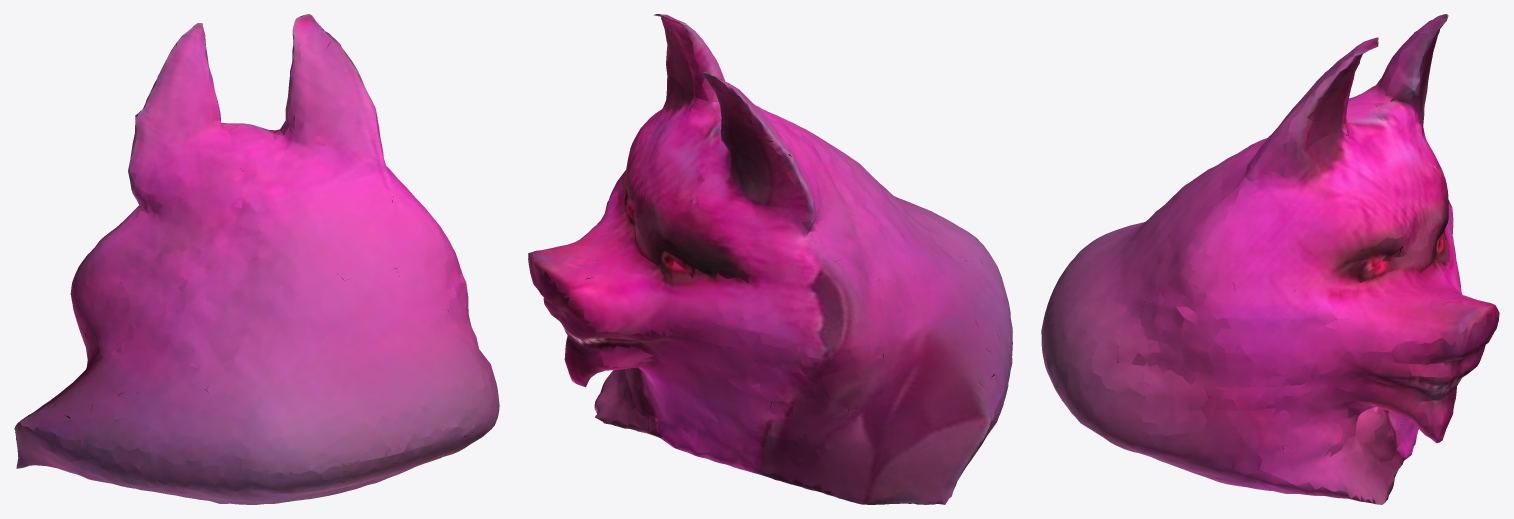
Rendered from deathface.glb.
The picture shows the model from 3 angles, left to right: view 1: azimuth 30°, elevation 25°; view 2: azimuth 150°, elevation 25°; view 3: azimuth 270°, elevation 25°; orthographic projection. The views are drawn at different scales.
Visible parts, largest first — view 1: world; view 2: world; view 3: world.
Boxes of the visible parts, box(x1,y1,x2,y2) form: world: box(14, 14, 499, 504); world: box(528, 14, 1012, 504); world: box(1041, 14, 1499, 504).
Size of the model in its own units: 0.8302 by 0.8269 by 0.7731.
Materials: 1 (1 with a texture image).
